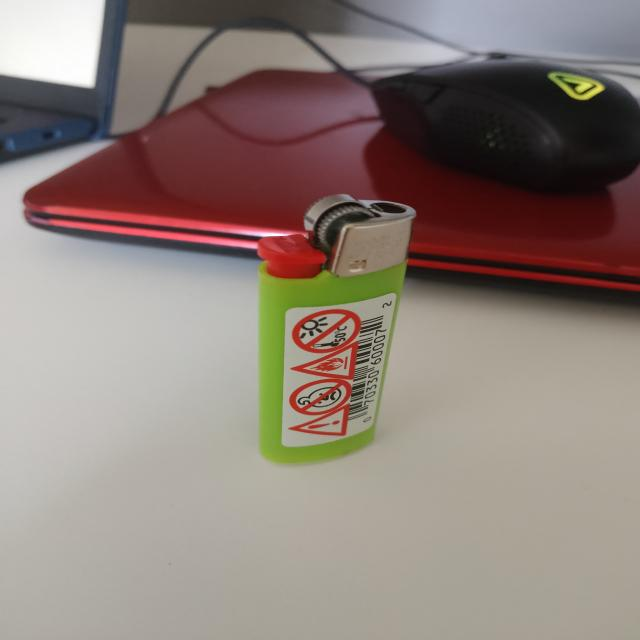lighter: (256, 194, 415, 466)
